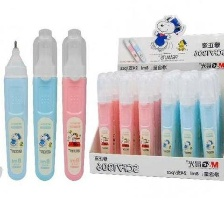book: (86, 12, 224, 182)
correction_fluid: (61, 28, 87, 183), (32, 28, 58, 181), (3, 38, 28, 181), (196, 71, 221, 171), (95, 71, 116, 170), (138, 72, 158, 171), (158, 73, 178, 171), (179, 74, 197, 169), (119, 72, 136, 170)
